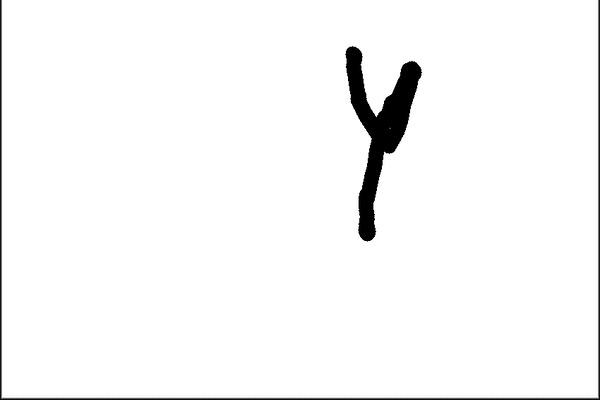Y: (331, 34, 441, 271)
